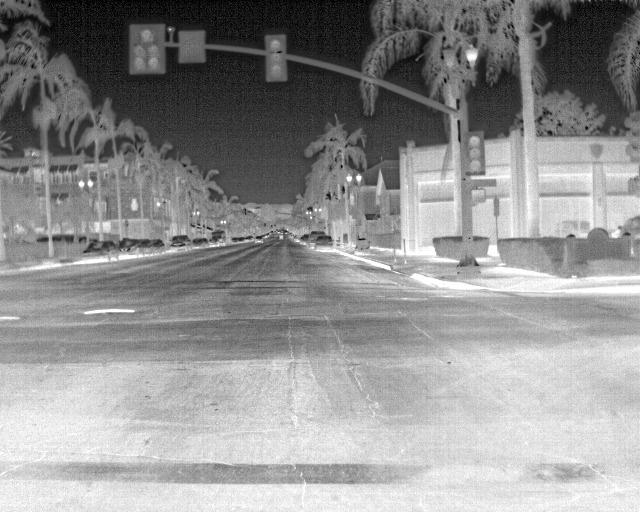bicycle: (616, 216, 639, 257), (81, 240, 120, 264), (308, 229, 326, 249), (169, 235, 192, 250), (314, 235, 333, 251), (148, 238, 165, 253), (189, 237, 206, 249), (252, 234, 267, 246)
